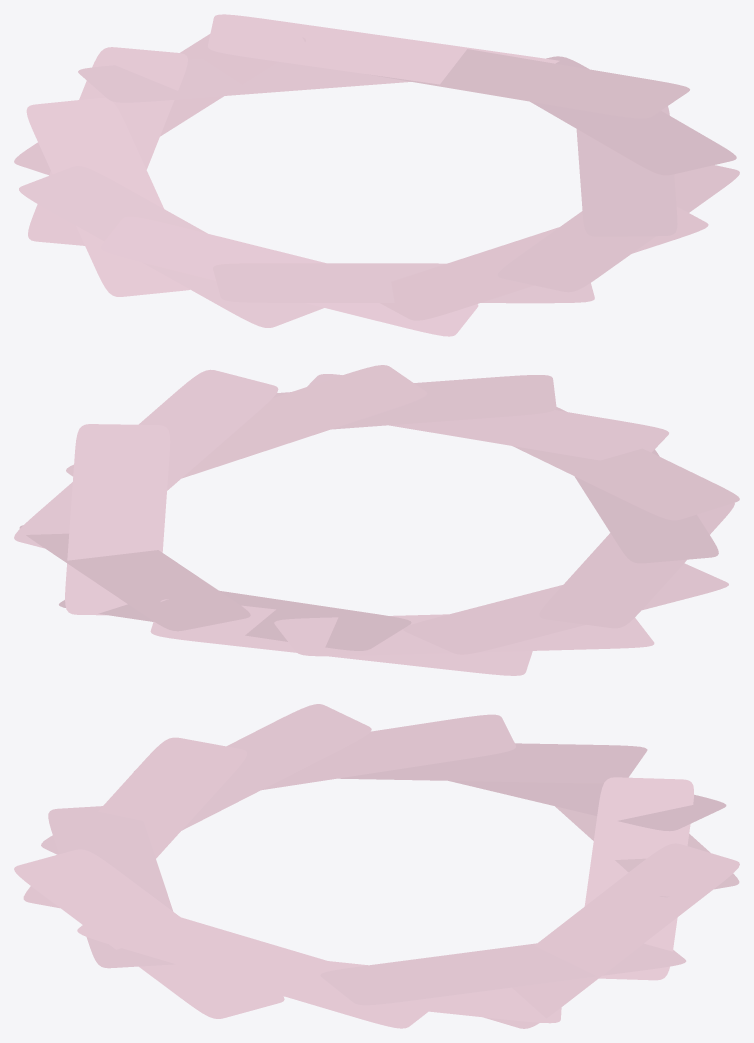
3 renders of one model, top to bottom at view 1: azimuth 30°, elevation 25°; view 2: azimuth 150°, elevation 25°; view 3: azimuth 270°, elevation 25°, orthographic.
Visible parts, largest first — view 1: Plane.006, Plane.002, Plane.001, Plane.009, Plane.008, Plane.007, Plane.011, Plane.012, Plane.010, Plane.003, Plane, Plane.005 (+1 smaller); view 2: Plane.001, Plane.012, Plane, Plane.002, Plane.010, Plane.006, Plane.007, Plane.009, Plane.011, Plane.005, Plane.008, Plane.004 (+1 smaller); view 3: Plane.002, Plane.001, Plane, Plane.009, Plane.011, Plane.003, Plane.012, Plane.007, Plane.008, Plane.006, Plane.010, Plane.005 (+1 smaller).
Part boxes in pixels (<box>): Plane.006: <box>26,98,189,296</box>; Plane.002: <box>208,14,559,84</box>; Plane.001: <box>368,49,689,118</box>; Plane.009: <box>213,263,594,303</box>; Plane.008: <box>100,216,478,336</box>; Plane.007: <box>19,166,323,327</box>; Plane.011: <box>497,165,739,292</box>; Plane.012: <box>576,106,677,236</box>; Plane.010: <box>380,206,708,320</box>; Plane.003: <box>78,58,410,102</box>; Plane: <box>530,56,736,175</box>; Plane.005: <box>28,47,187,245</box>; Plane.001: <box>65,424,170,615</box>; Plane.012: <box>66,365,426,478</box>; Plane: <box>14,369,278,548</box>; Plane.002: <box>19,525,250,631</box>; Plane.010: <box>307,374,668,460</box>; Plane.006: <box>403,563,728,654</box>; Plane.007: <box>539,503,734,628</box>; Plane.009: <box>512,407,739,520</box>; Plane.011: <box>273,375,556,429</box>; Plane.005: <box>274,614,654,656</box>; Plane.008: <box>574,449,718,563</box>; Plane.004: <box>150,599,532,675</box>; Plane.002: <box>483,843,739,1028</box>; Plane.001: <box>320,943,686,1005</box>; Plane: <box>185,948,561,1023</box>; Plane.009: <box>23,737,246,908</box>; Plane.011: <box>14,849,284,1018</box>; Plane.003: <box>584,777,693,980</box>; Plane.012: <box>77,901,427,1028</box>; Plane.007: <box>134,714,515,790</box>; Plane.008: <box>41,704,371,854</box>; Plane.006: <box>338,743,647,783</box>; Plane.010: <box>48,806,175,968</box>; Plane.005: <box>449,781,726,831</box>.
Size of what is drawn, in the model's own units: 0.5637 by 0.0379 by 0.5773.
